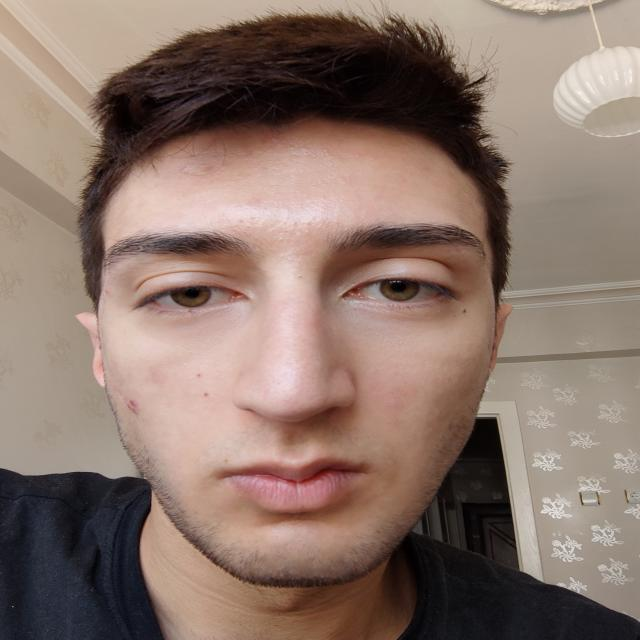Acne: (150, 362, 170, 387), (236, 193, 265, 210), (272, 228, 305, 242), (120, 394, 140, 416), (275, 253, 295, 264), (288, 218, 312, 226), (295, 144, 311, 152), (322, 146, 333, 156), (103, 286, 110, 298)
